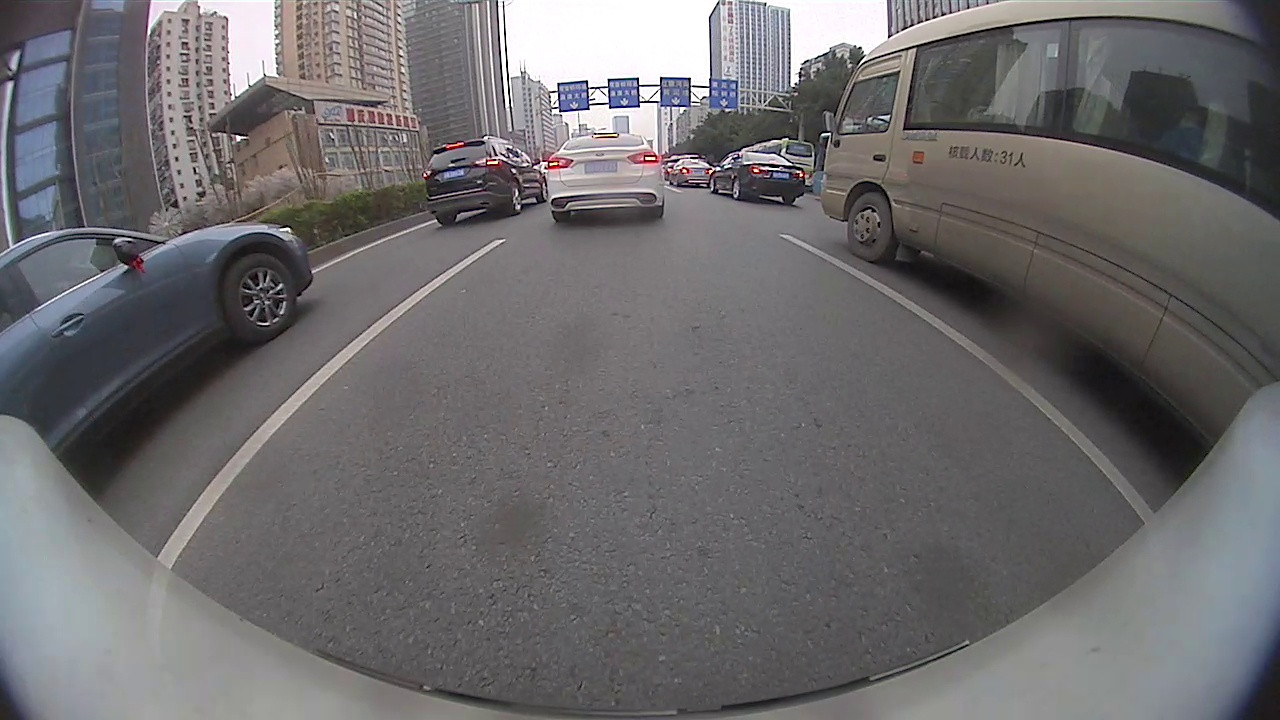bus: (820, 2, 1278, 448), (736, 138, 816, 179)
car: (1, 220, 315, 473), (425, 136, 546, 224), (546, 132, 664, 222), (711, 153, 809, 205), (668, 156, 711, 186)
front: (220, 254, 298, 343), (844, 192, 899, 262)
rear: (507, 178, 522, 216), (730, 175, 742, 201)
